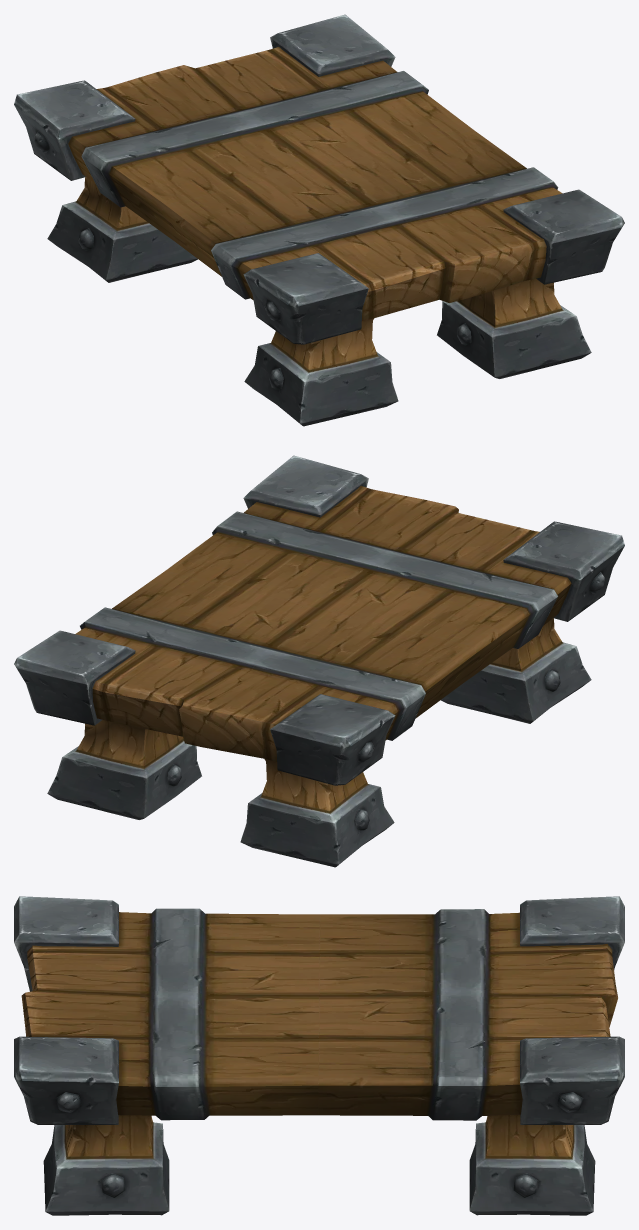
3 renders of one model, top to bottom at view 1: azimuth 30°, elevation 25°; view 2: azimuth 150°, elevation 25°; view 3: azimuth 270°, elevation 25°, orthographic. The views are drawn at different scales.
Bounding box in the file's own units: 2.33 × 0.9735 × 3.38.
Materials: 2 (2 with a texture image).
